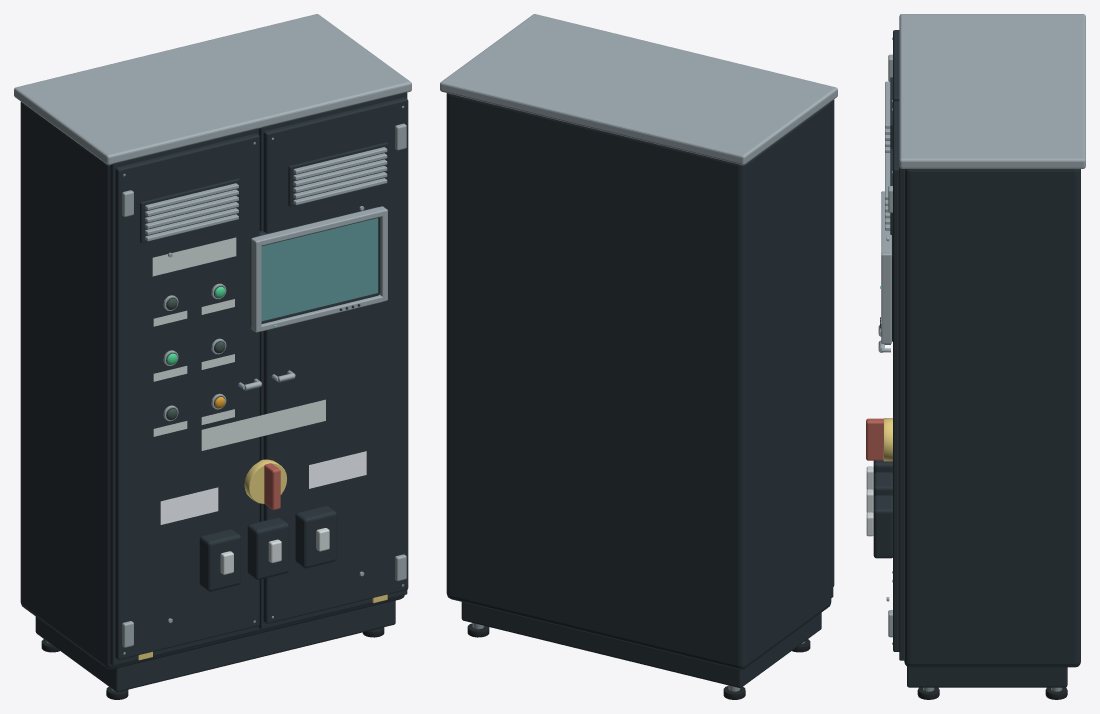
Rendered from OD_ElectricalSwitchgear.fbx.
The picture shows the model from 3 angles, left to right: view 1: azimuth 30°, elevation 25°; view 2: azimuth 150°, elevation 25°; view 3: azimuth 270°, elevation 25°; orthographic projection.
Parts seen in each view (by area): view 1: OD_ElectricalSwitchgear; view 2: OD_ElectricalSwitchgear; view 3: OD_ElectricalSwitchgear.
Part boxes in pixels (left/top/right/bottom): OD_ElectricalSwitchgear: left=14, top=14, right=411, bottom=699; OD_ElectricalSwitchgear: left=440, top=14, right=837, bottom=699; OD_ElectricalSwitchgear: left=866, top=14, right=1085, bottom=699.
Bounding box in the file's own units: 128 × 222 × 80.75.
